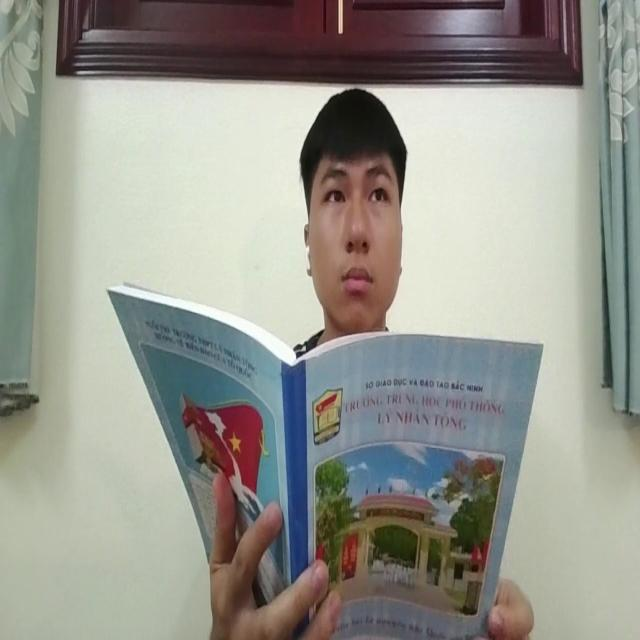book: (104, 270, 545, 640)
student: (281, 83, 419, 335)
